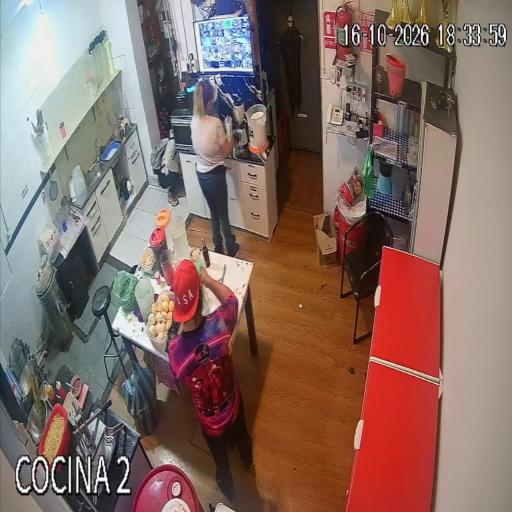Balde: (246, 104, 267, 153)
Envase Ketchup: (56, 381, 65, 399)
Envase Llajua: (71, 375, 82, 398)
Jarra1: (150, 228, 167, 272)
Jarra2: (156, 209, 173, 250)
Jarra3: (171, 215, 189, 262), (135, 277, 154, 321)
Jarra4: (70, 165, 87, 205)
Licuadora: (211, 87, 218, 116)
Licuadora2: (234, 98, 249, 145)
Microondas: (171, 109, 193, 151)
Persona1: (168, 260, 253, 499)
Persona2: (191, 81, 239, 256)
Persona4: (150, 130, 181, 206)
Taper: (139, 248, 155, 276)
Taper4: (146, 290, 175, 353)
